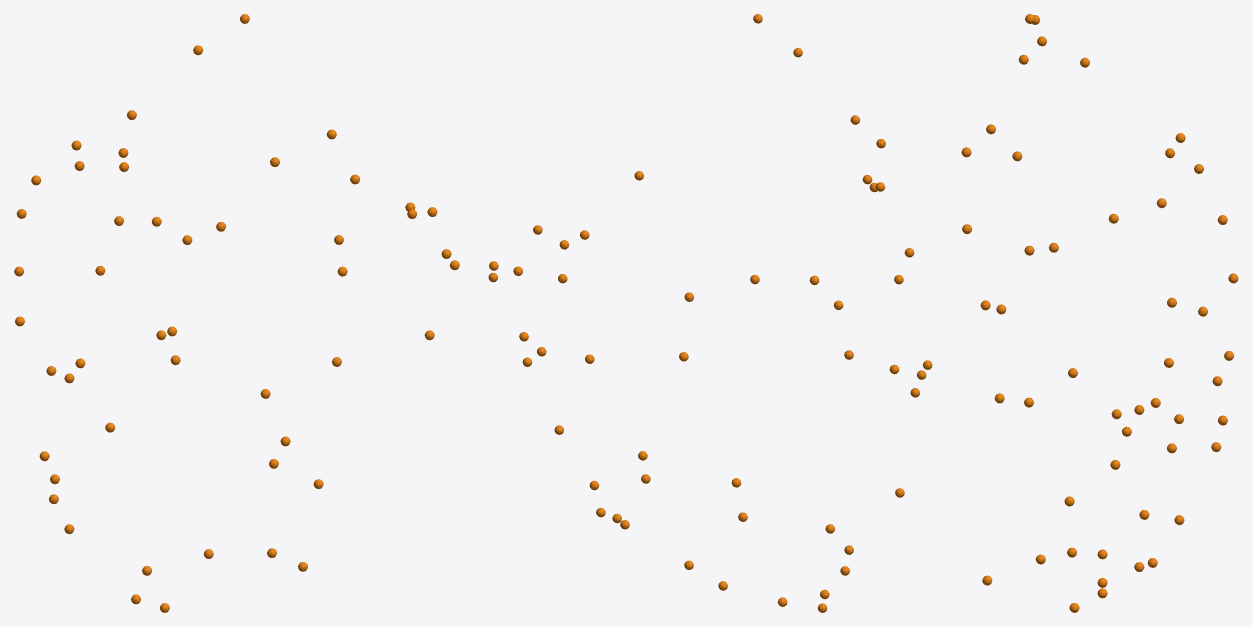
File: citrus_c_fruit.obj
The picture shows the model from 3 angles, left to right: view 1: azimuth 30°, elevation 25°; view 2: azimuth 150°, elevation 25°; view 3: azimuth 270°, elevation 25°; orthographic projection. The views are drawn at different scales.
Visible parts, largest first — view 1: fruit; view 2: fruit; view 3: fruit.
Part boxes in pixels (box(x1,y1,x2,y2)): fruit: box(14, 14, 459, 612); fruit: box(488, 14, 932, 612); fruit: box(961, 14, 1238, 612).
Size of the model in its own units: 3.65 by 4.81 by 2.06.
